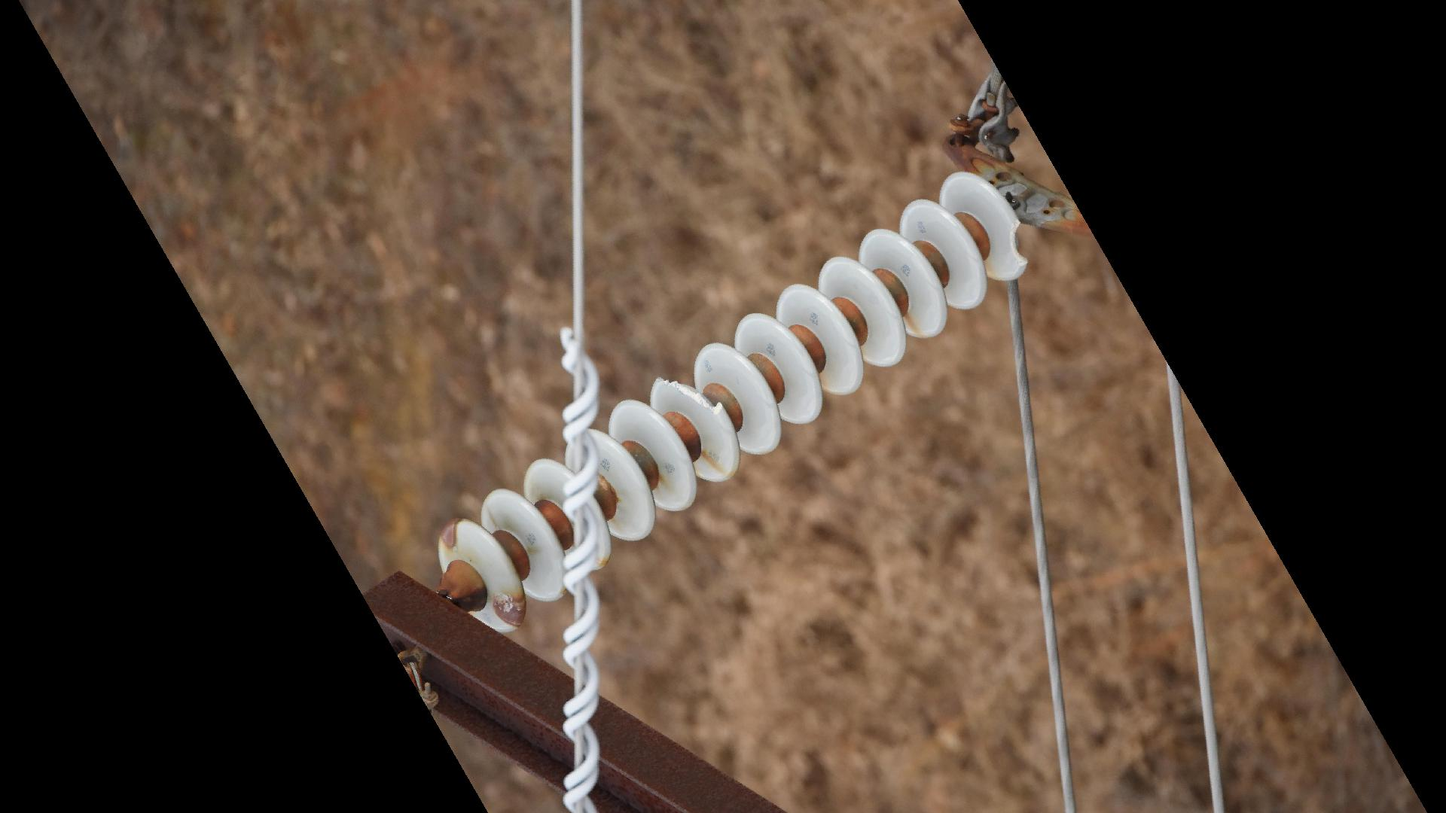insulator: (429, 163, 1033, 639)
insulator_breakage: (648, 370, 729, 419), (1004, 214, 1035, 273)
